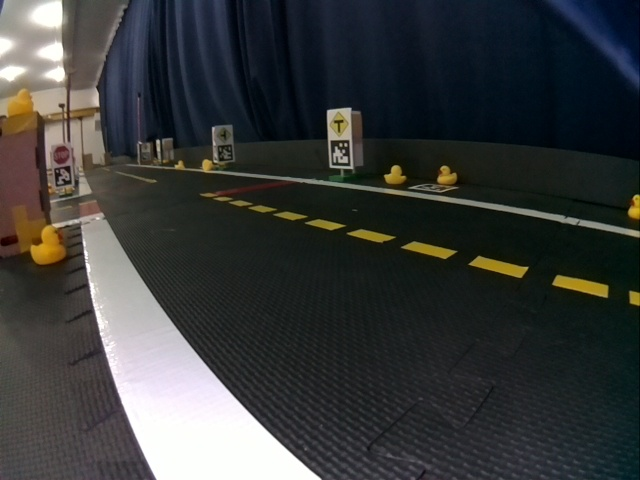Duckie: (30, 227, 63, 263), (10, 89, 35, 112), (387, 165, 403, 184), (438, 167, 454, 185), (630, 198, 639, 219), (201, 161, 211, 170), (176, 161, 185, 170)
Intersection sign: (329, 111, 349, 136), (217, 127, 232, 141)
QR code: (331, 143, 351, 167), (53, 168, 71, 187), (217, 145, 232, 162)
Stop sign: (53, 146, 70, 165)
